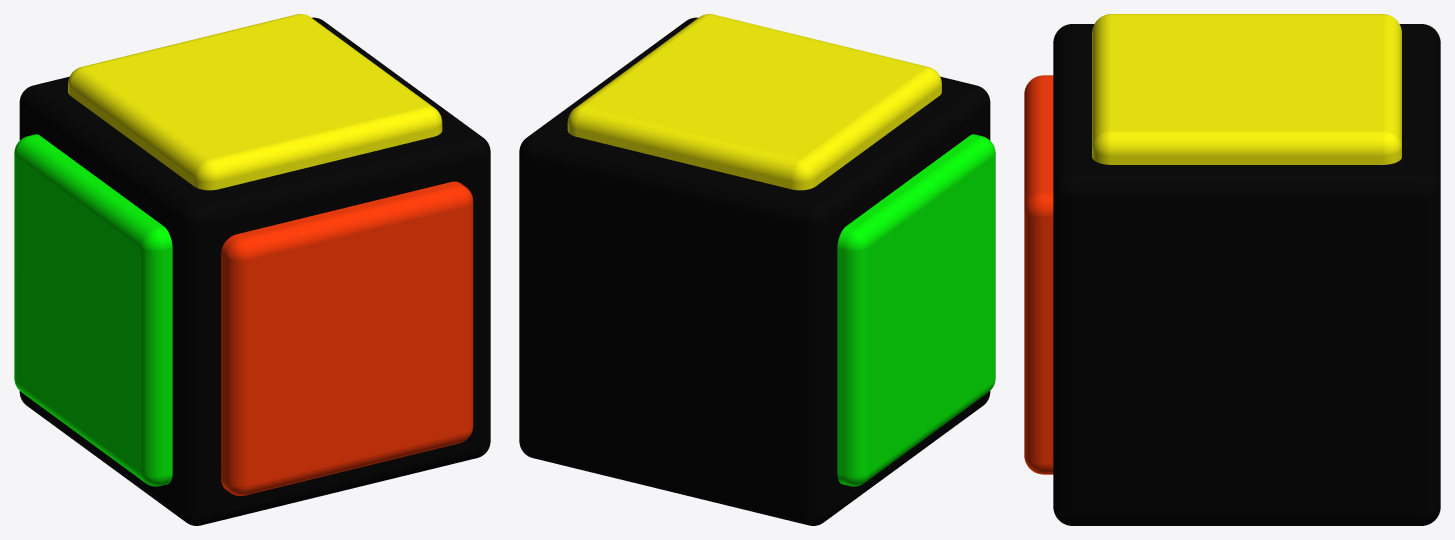
File: cubinho(1, 1, 1).obj
3 renders of one model, left to right at view 1: azimuth 30°, elevation 25°; view 2: azimuth 150°, elevation 25°; view 3: azimuth 270°, elevation 25°, orthographic. The views are drawn at different scales.
Visible parts, largest first — view 1: (1,_1,_1); view 2: (1,_1,_1); view 3: (1,_1,_1).
Boxes of the visible parts, left/top/right/bottom form: (1,_1,_1): left=14, top=14, right=490, bottom=525; (1,_1,_1): left=519, top=14, right=995, bottom=525; (1,_1,_1): left=1024, top=14, right=1440, bottom=525.
Size of the model in its own units: 2.15 by 2.15 by 2.15.
